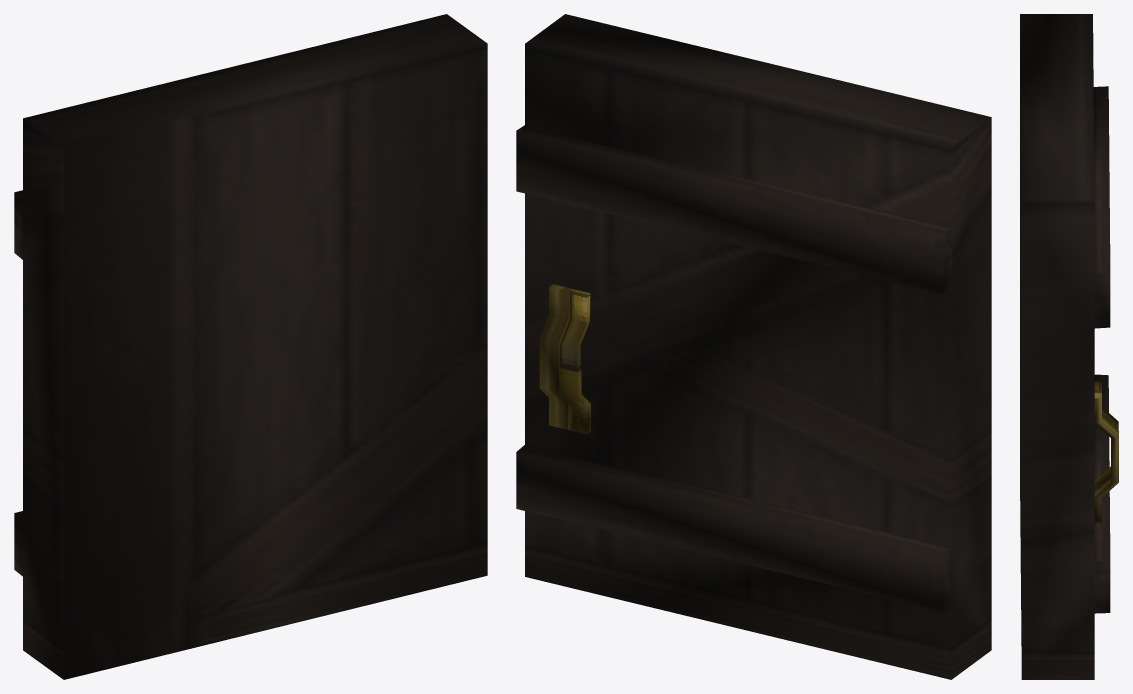
Rendered from door.obj.
The picture shows the model from 3 angles, left to right: view 1: azimuth 30°, elevation 25°; view 2: azimuth 150°, elevation 25°; view 3: azimuth 270°, elevation 25°; orthographic projection. The views are drawn at different scales.
Parts seen in each view (by area): view 1: rdmobj00; view 2: rdmobj00, rdmobj01; view 3: rdmobj00, rdmobj01.
Boxes of the visible parts, x1,y1,x2,y2 form: rdmobj00: [14, 14, 487, 679]; rdmobj00: [516, 14, 991, 679]; rdmobj01: [539, 284, 590, 434]; rdmobj00: [1020, 14, 1110, 679]; rdmobj01: [1094, 381, 1118, 522].
Bounding box in the file's own units: 145 × 173 × 32.39.
